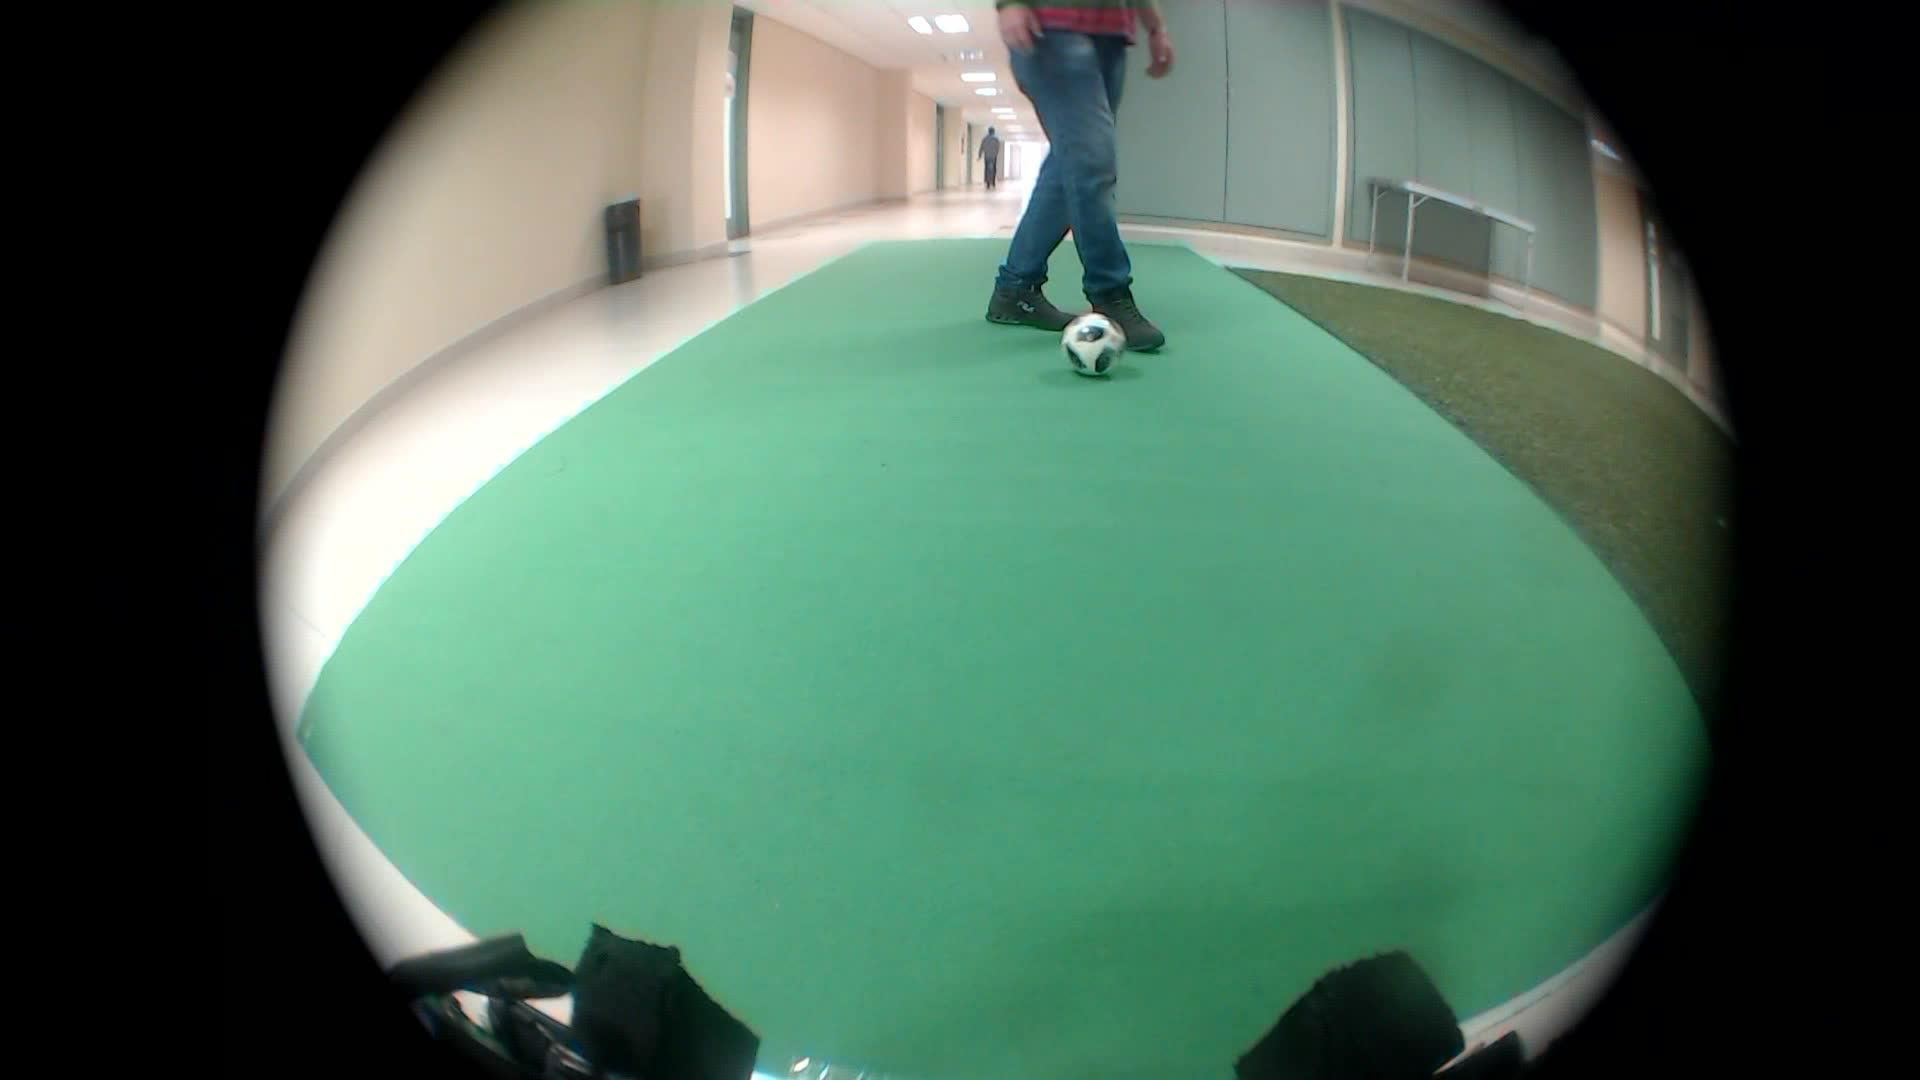ball: (1054, 301, 1142, 382)
